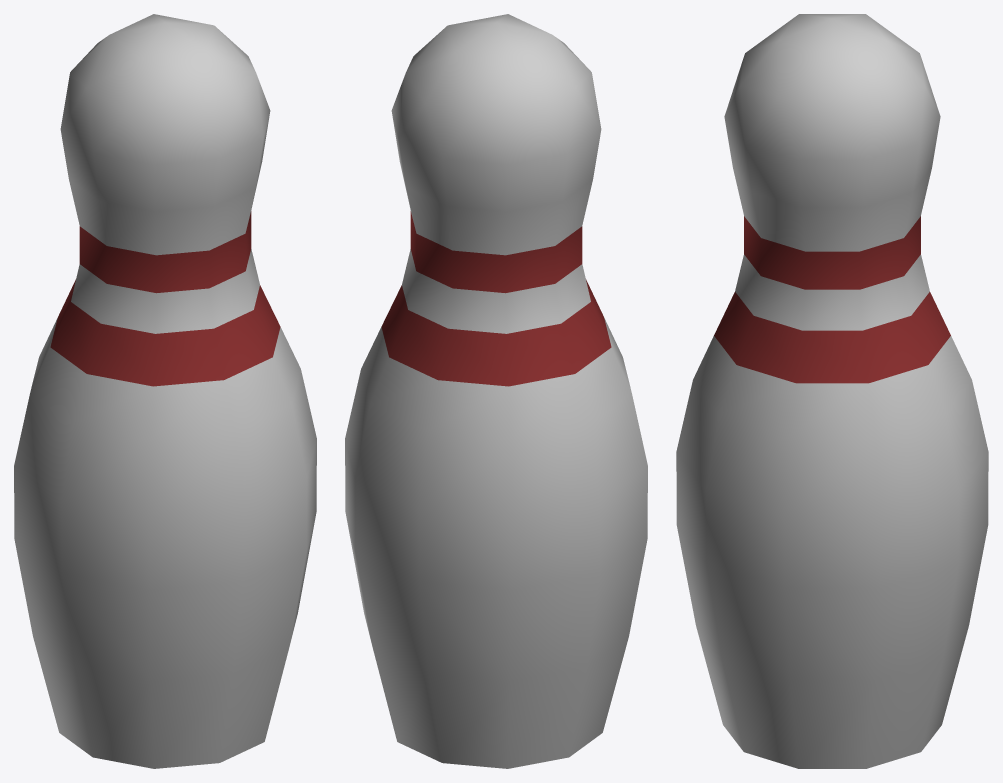
The model's file is Entity_BowlingPin.FBX.
3 views of the same model, side by side, from view 1: azimuth 30°, elevation 25°; view 2: azimuth 150°, elevation 25°; view 3: azimuth 270°, elevation 25° (orthographic).
Parts seen in each view (by area): view 1: BowlingPin; view 2: BowlingPin; view 3: BowlingPin.
Boxes of the visible parts, x1=… form: BowlingPin: x1=14, y1=14, x2=316, y2=768; BowlingPin: x1=345, y1=14, x2=647, y2=768; BowlingPin: x1=676, y1=14, x2=988, y2=768.
Bounding box in the file's own units: 22.11 × 58.02 × 23.25.
